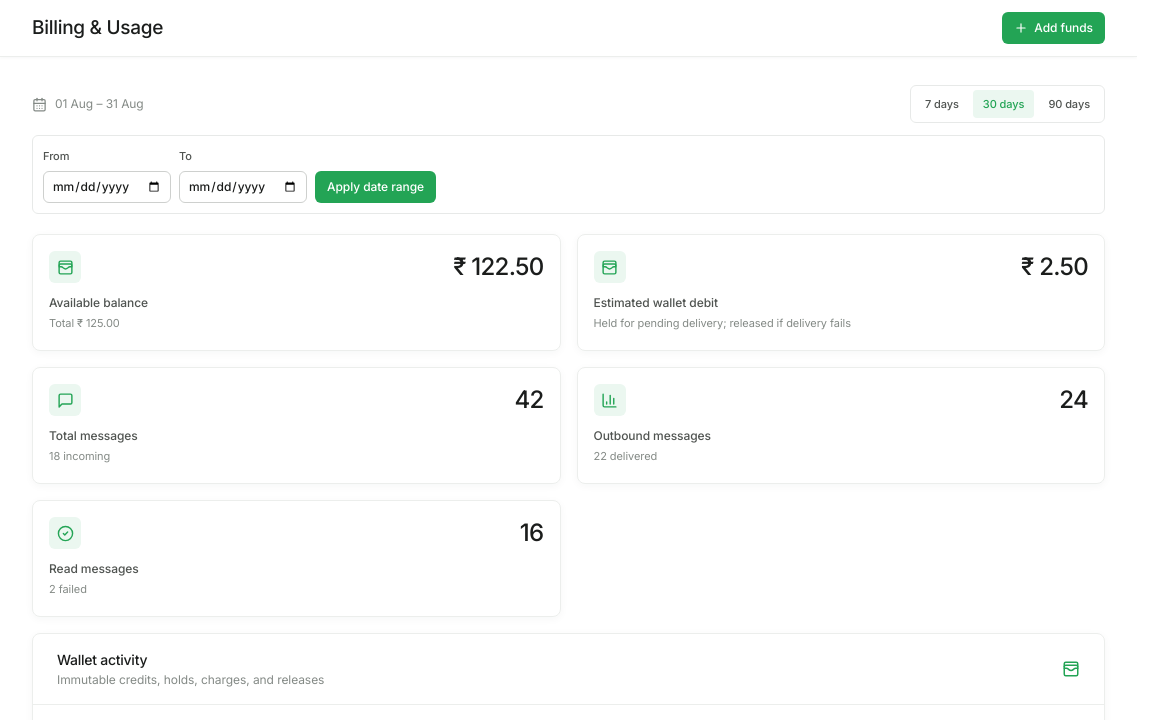
Scenario: BillingUsage › validates an invalid custom date range before requesting it
This screenshot has width=1152, height=720.
Expected: the text "Total messages" is shown, left=49, top=428, right=138, bottom=443
Step 1. Type "2026-09-10" into the date field named "Usage start date" → (107, 187), box left=43, top=171, right=171, bottom=203
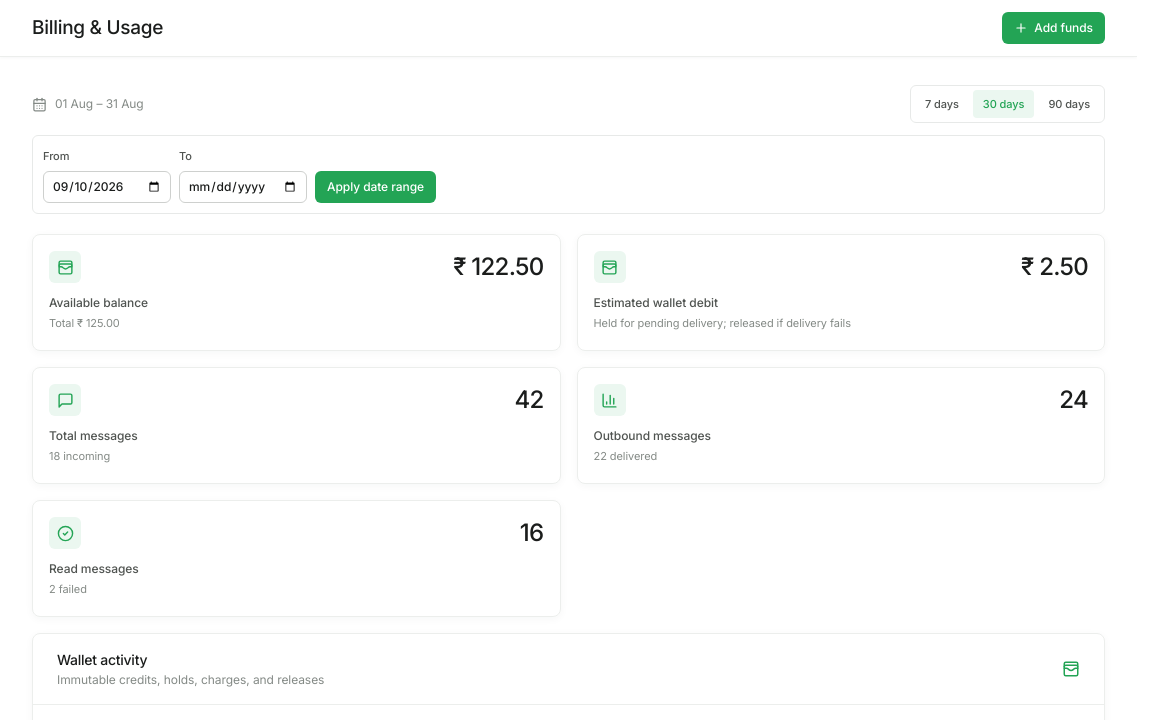
Step 2. Type "2026-09-01" into the date field named "Usage end date" → (243, 187), box left=179, top=171, right=307, bottom=203
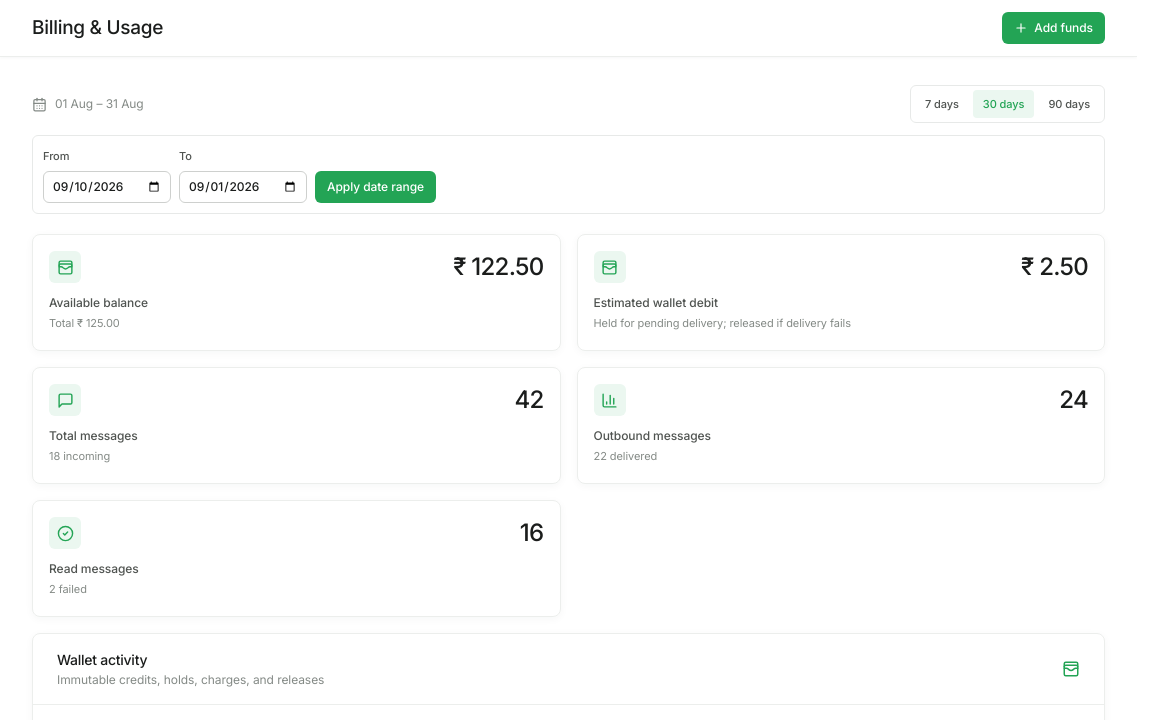
Step 3. Click the button "Apply date range" → (376, 187), box left=315, top=171, right=436, bottom=203
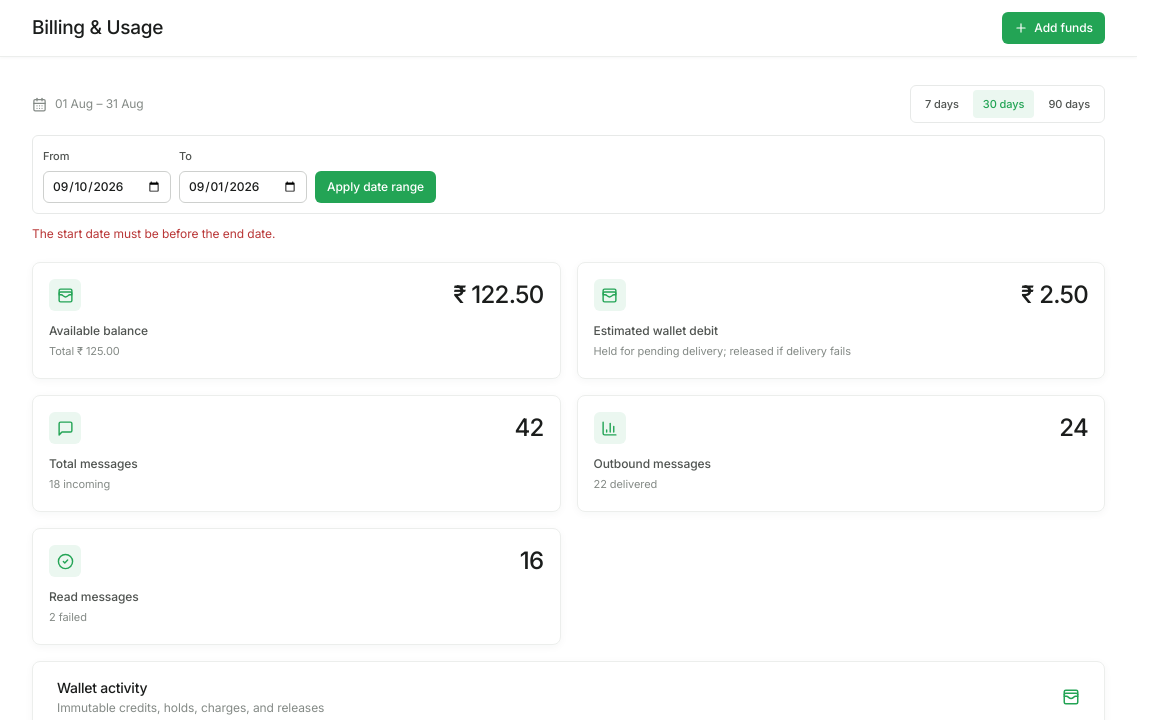
Expected: the message shows "start date must be before", left=32, top=226, right=275, bottom=241
